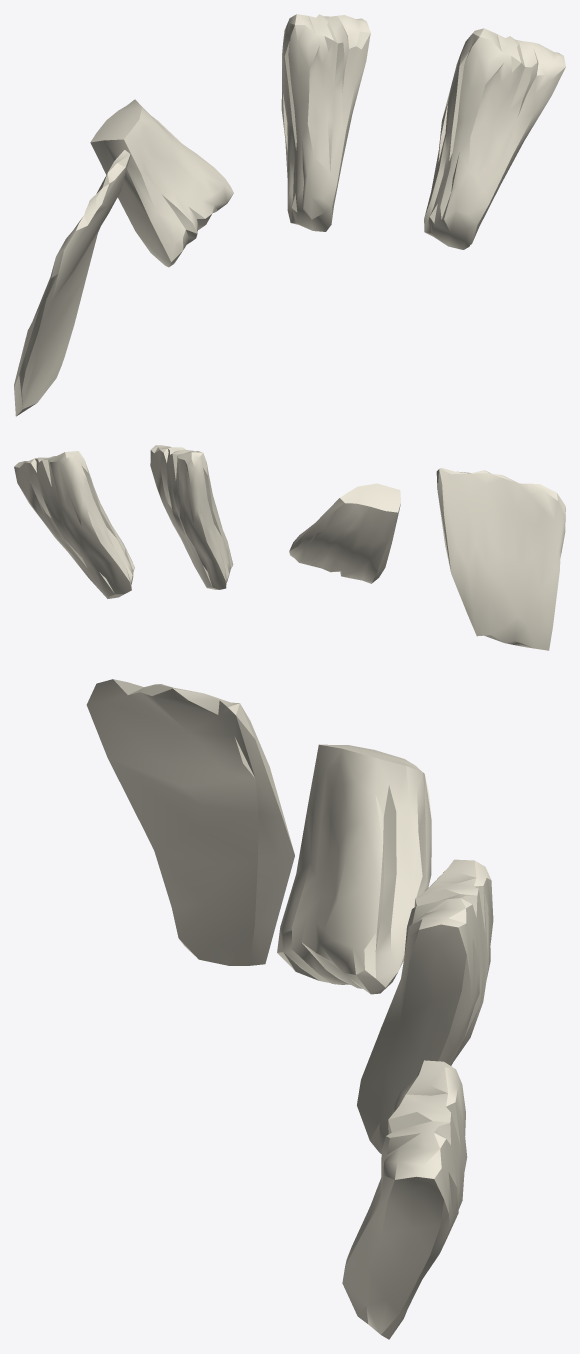
File: fma42316_mm2022.glb
3 renders of one model, top to bottom at view 1: azimuth 30°, elevation 25°; view 2: azimuth 150°, elevation 25°; view 3: azimuth 270°, elevation 25°, orthographic. The views are drawn at different scales.
Parts seen in each view (by area): view 1: FMA42316_MM2022; view 2: FMA42316_MM2022; view 3: FMA42316_MM2022.
Part boxes in pixels (box(x1,y1,x2,y2)): FMA42316_MM2022: box(14, 14, 565, 416); FMA42316_MM2022: box(14, 445, 565, 650); FMA42316_MM2022: box(86, 679, 493, 1339).
Bounding box in the file's own units: 0.0335 × 0.0127 × 0.0124.
